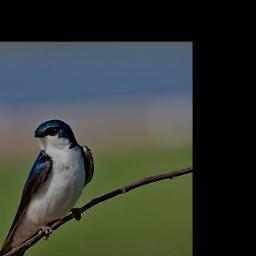Swallow: (0, 117, 94, 256)
